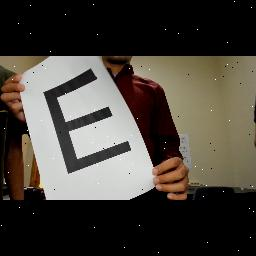e: (42, 66, 136, 178)
